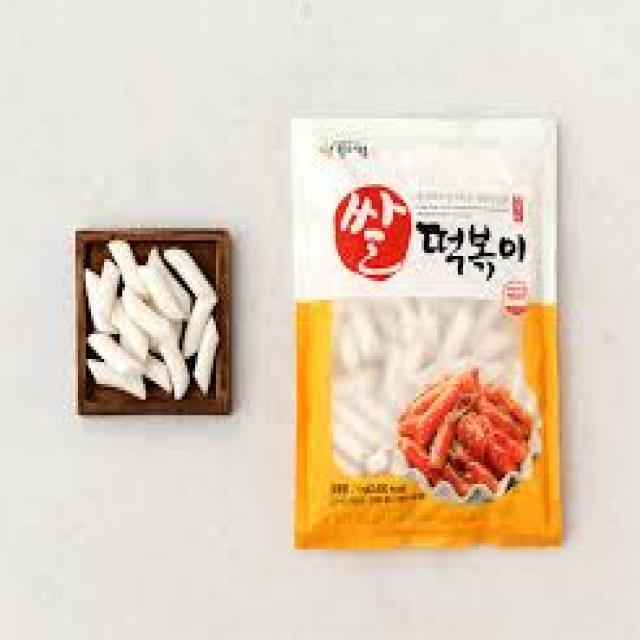-: (83, 234, 224, 400)
rice_cake: (86, 240, 221, 403)
